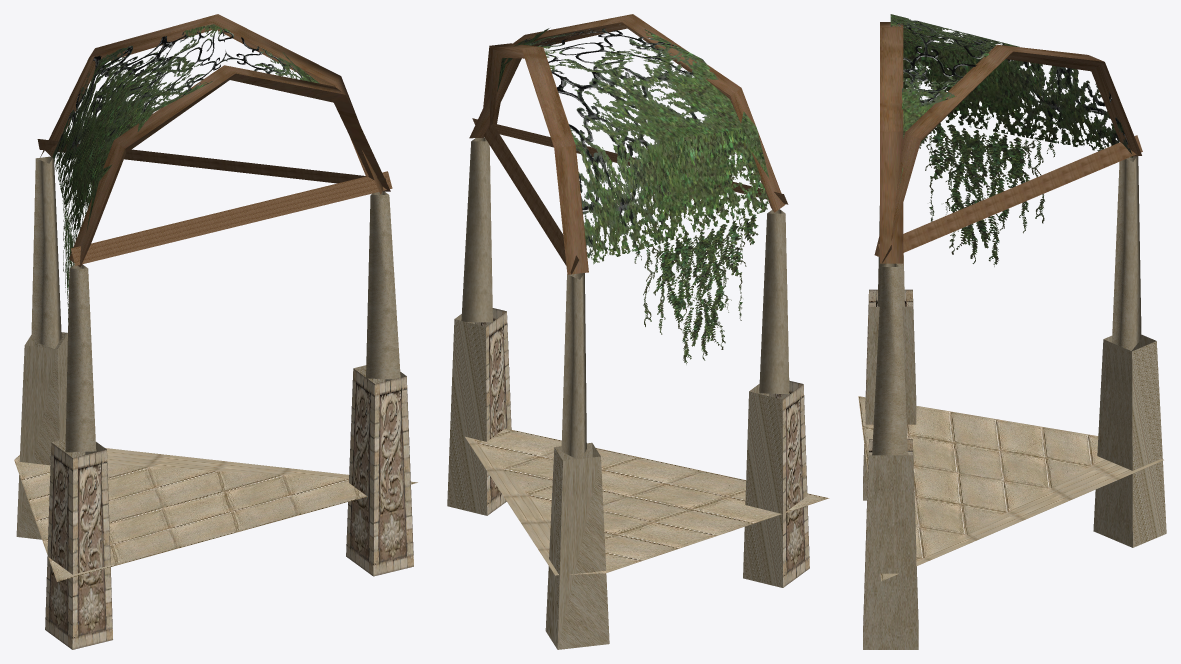
The model's file is thm_nboo_imprv_arbor_corner_45_s01_l2.fbx.
3 views of the same model, side by side, from view 1: azimuth 30°, elevation 25°; view 2: azimuth 150°, elevation 25°; view 3: azimuth 270°, elevation 25° (orthographic). The views are drawn at different scales.
Parts seen in each view (by area): view 1: mesh_node; view 2: mesh_node; view 3: mesh_node.
Boxes of the visible parts, <box> form: mesh_node: <box>14,14,417,649</box>; mesh_node: <box>447,14,829,649</box>; mesh_node: <box>858,14,1166,649</box>.
Bounding box in the file's own units: 4.33 × 5.86 × 3.05.
6 materials, 6 textured.
